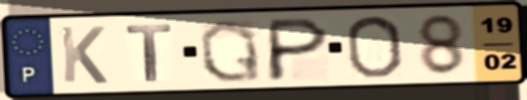8: (413, 12, 468, 78)
K: (57, 24, 111, 86)
O: (343, 13, 406, 80)
P: (263, 15, 333, 84)
Q: (196, 17, 264, 85)
T: (122, 22, 175, 84)
